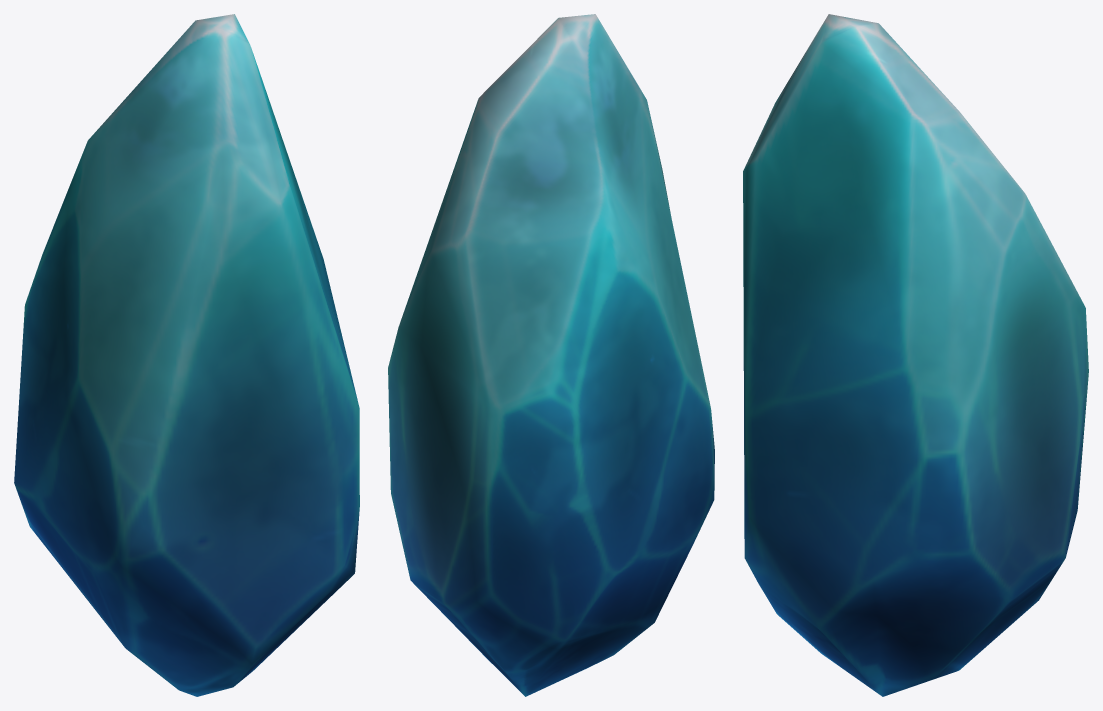
Rendered from SM_Gem_IceCrystal_004.fbx.
3 views of the same model, side by side, from view 1: azimuth 30°, elevation 25°; view 2: azimuth 150°, elevation 25°; view 3: azimuth 270°, elevation 25° (orthographic). The views are drawn at different scales.
Visible parts, largest first — view 1: SM_Gem_IceCrystal_004; view 2: SM_Gem_IceCrystal_004; view 3: SM_Gem_IceCrystal_004.
Part boxes in pixels (left/top/right/bottom): SM_Gem_IceCrystal_004: left=14, top=14, right=359, bottom=696; SM_Gem_IceCrystal_004: left=388, top=14, right=714, bottom=696; SM_Gem_IceCrystal_004: left=743, top=14, right=1088, bottom=696.
Size of the model in its own units: 20.1 by 46.89 by 22.4.
